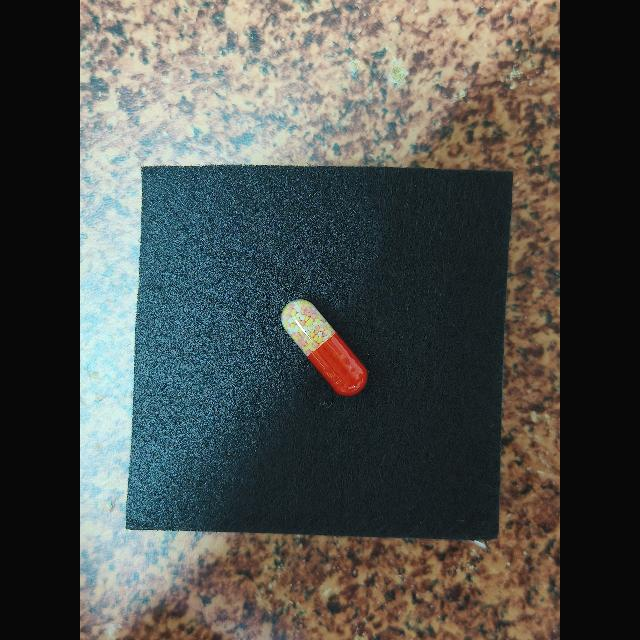Intact Capsule: (281, 299, 368, 396)
